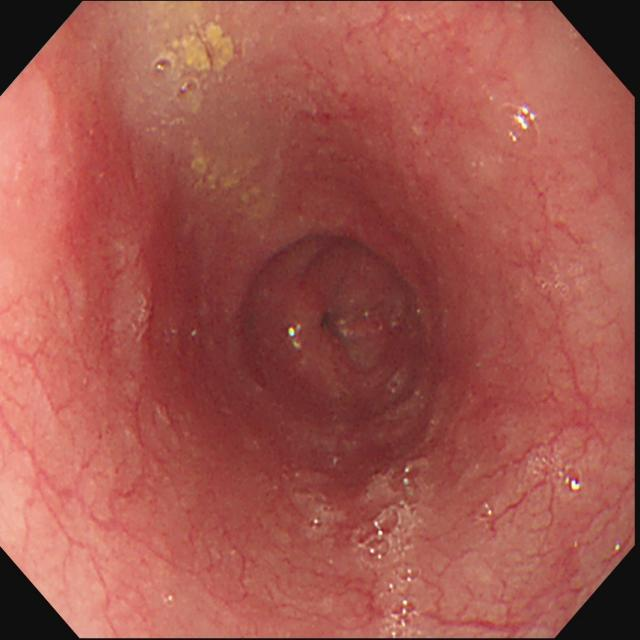I: (268, 238, 422, 421)
J: (190, 157, 264, 210), (171, 23, 236, 81)
T: (361, 459, 422, 639), (532, 451, 583, 494)
